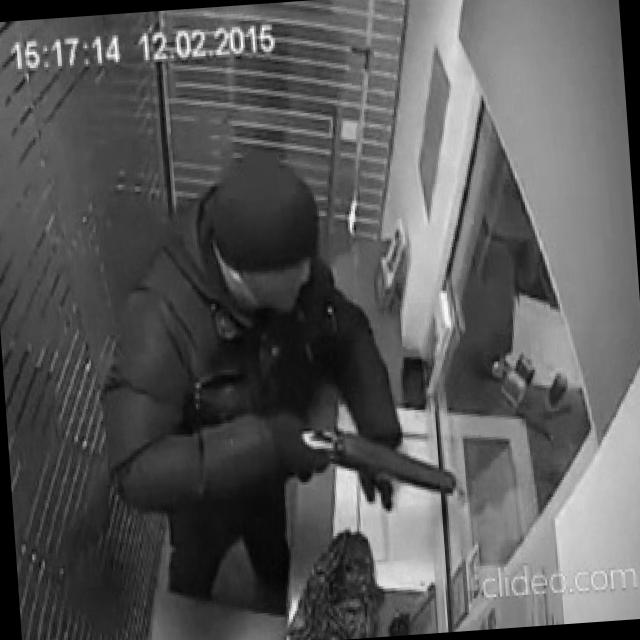gun: (296, 412, 458, 510)
person with a gun: (81, 136, 468, 633)
